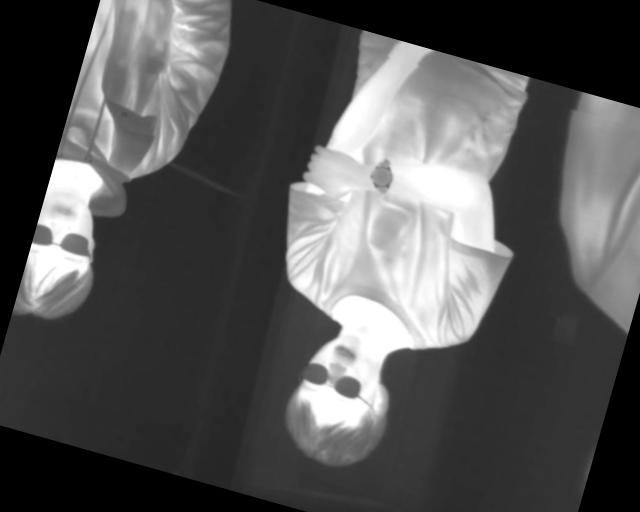face: (273, 322, 405, 477), (12, 187, 115, 334)
